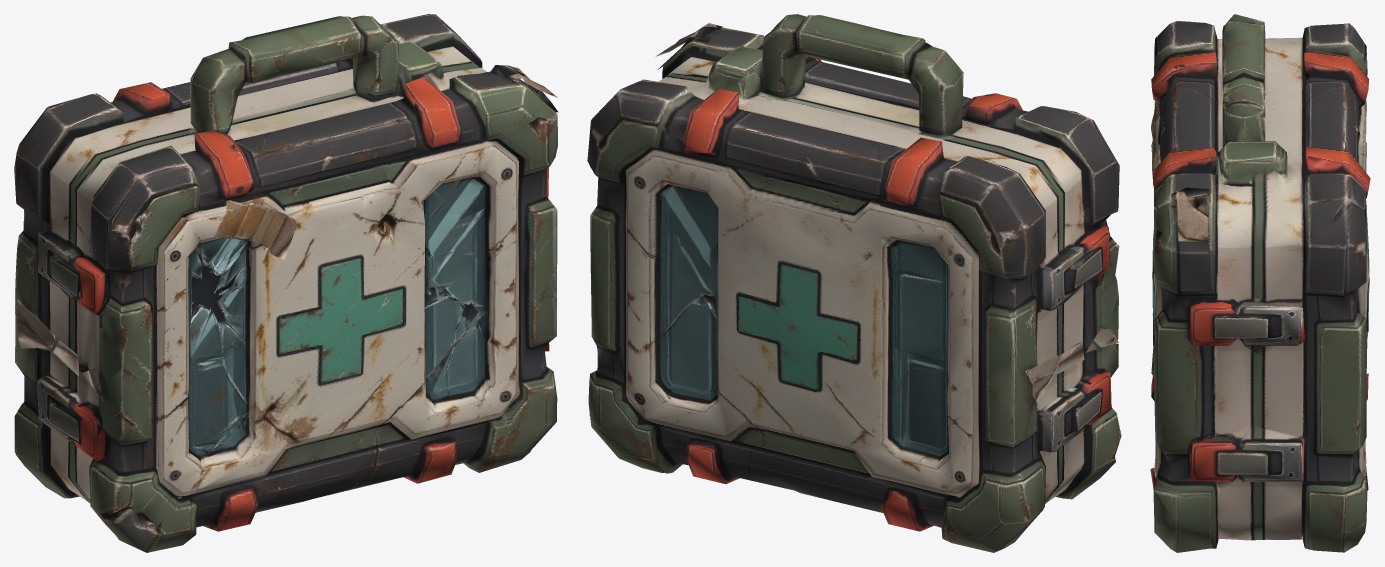
File: midground_medical_crate.glb
3 renders of one model, left to right at view 1: azimuth 30°, elevation 25°; view 2: azimuth 150°, elevation 25°; view 3: azimuth 270°, elevation 25°, orthographic. The views are drawn at different scales.
Visible parts, largest first — view 1: tripo_node_2a04e38d-d3ba-42c2-88be-9dd72c9d326e; view 2: tripo_node_2a04e38d-d3ba-42c2-88be-9dd72c9d326e; view 3: tripo_node_2a04e38d-d3ba-42c2-88be-9dd72c9d326e.
Boxes of the visible parts, x1=… form: tripo_node_2a04e38d-d3ba-42c2-88be-9dd72c9d326e: x1=14, y1=14, x2=558, y2=552; tripo_node_2a04e38d-d3ba-42c2-88be-9dd72c9d326e: x1=587, y1=14, x2=1121, y2=552; tripo_node_2a04e38d-d3ba-42c2-88be-9dd72c9d326e: x1=1150, y1=14, x2=1370, y2=552.
Bounding box in the file's own units: 1 × 0.9249 × 0.4354.
Materials: 1 (1 with a texture image).
